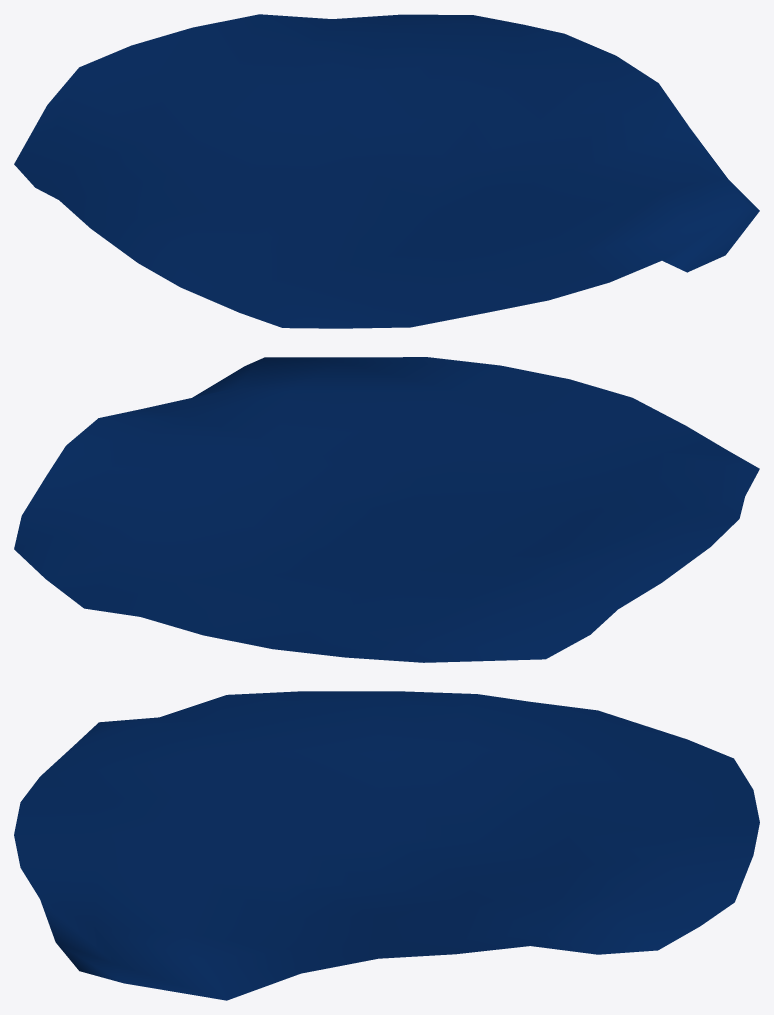
Rendered from Lac_modifier.fbx.
3 views of the same model, one above another, from view 1: azimuth 30°, elevation 25°; view 2: azimuth 150°, elevation 25°; view 3: azimuth 270°, elevation 25° (orthographic). The views are drawn at different scales.
Visible parts, largest first — view 1: Lac; view 2: Lac; view 3: Lac.
Part boxes in pixels (x1=…): Lac: x1=14, y1=14, x2=759, y2=328; Lac: x1=14, y1=357, x2=759, y2=662; Lac: x1=14, y1=691, x2=759, y2=1000.
Bounding box in the file's own units: 33.09 × 2.87 × 36.61.
